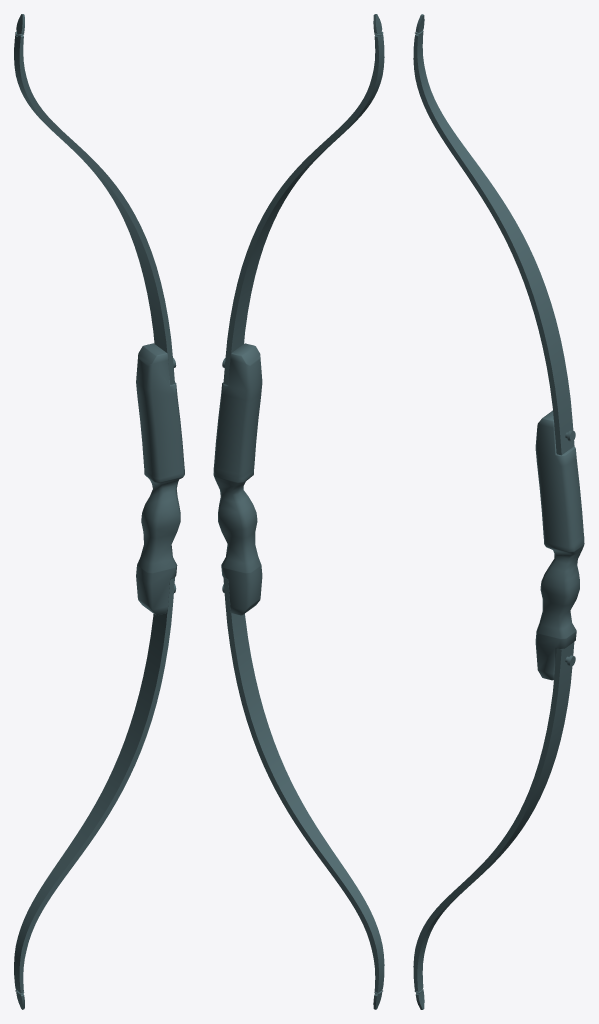
File: modern_bow_3.fbx
3 views of the same model, side by side, from view 1: azimuth 30°, elevation 25°; view 2: azimuth 150°, elevation 25°; view 3: azimuth 330°, elevation 25° (orthographic).
Visible parts, largest first — view 1: Bow_Recurve; view 2: Bow_Recurve; view 3: Bow_Recurve.
Boxes of the visible parts, <box> form: Bow_Recurve: <box>14,14,184,1009</box>; Bow_Recurve: <box>213,14,384,1009</box>; Bow_Recurve: <box>413,14,584,1009</box>.
Bounding box in the file's own units: 26.96 × 156 × 4.16.
